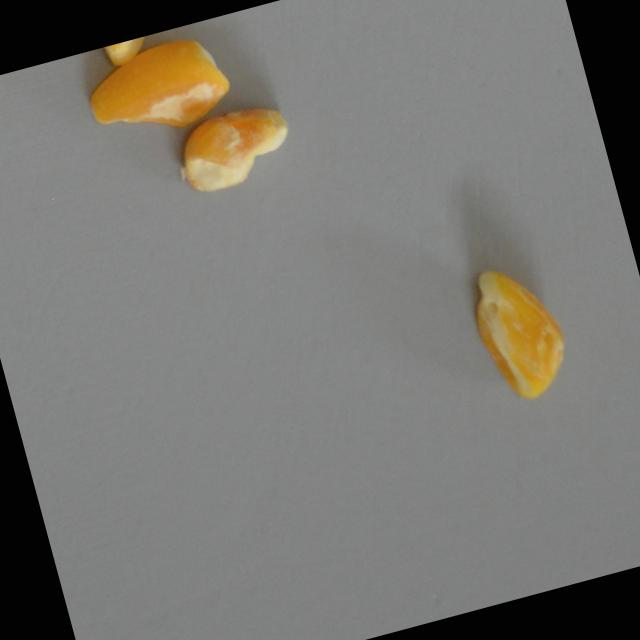dañado: (94, 33, 161, 70)
pelicula: (79, 28, 238, 148), (460, 255, 578, 411), (168, 94, 303, 201)
